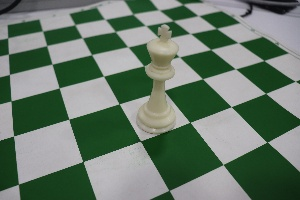white_king: (133, 16, 184, 136)
